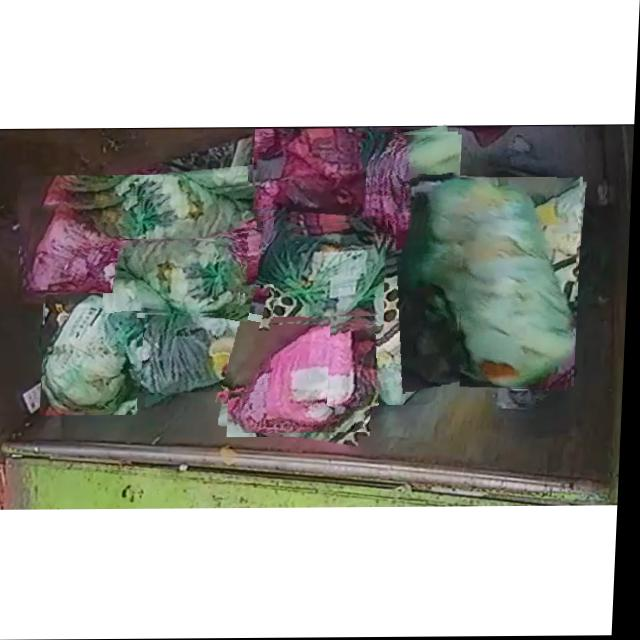general_trashbag: (419, 178, 575, 389), (334, 265, 460, 406), (130, 284, 276, 392), (46, 292, 139, 415), (259, 227, 387, 316), (119, 239, 243, 312)
other_trashbag: (24, 199, 275, 302), (233, 317, 375, 432), (255, 129, 369, 222), (370, 137, 461, 249)
